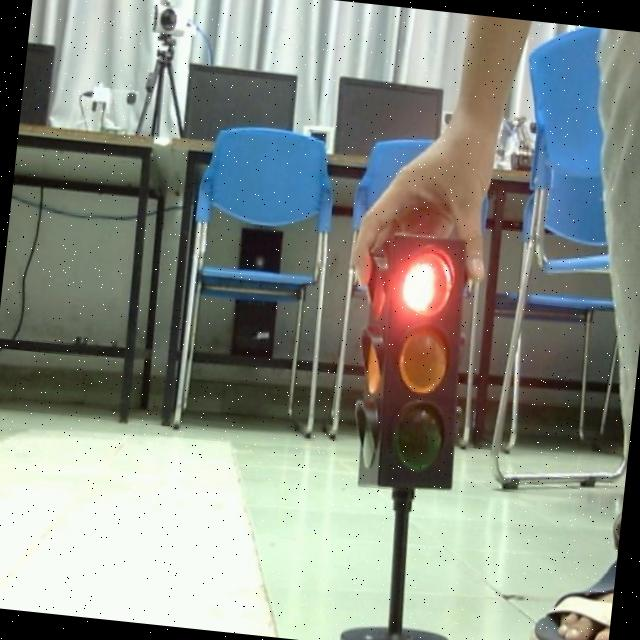red_light: (394, 242, 464, 322)
